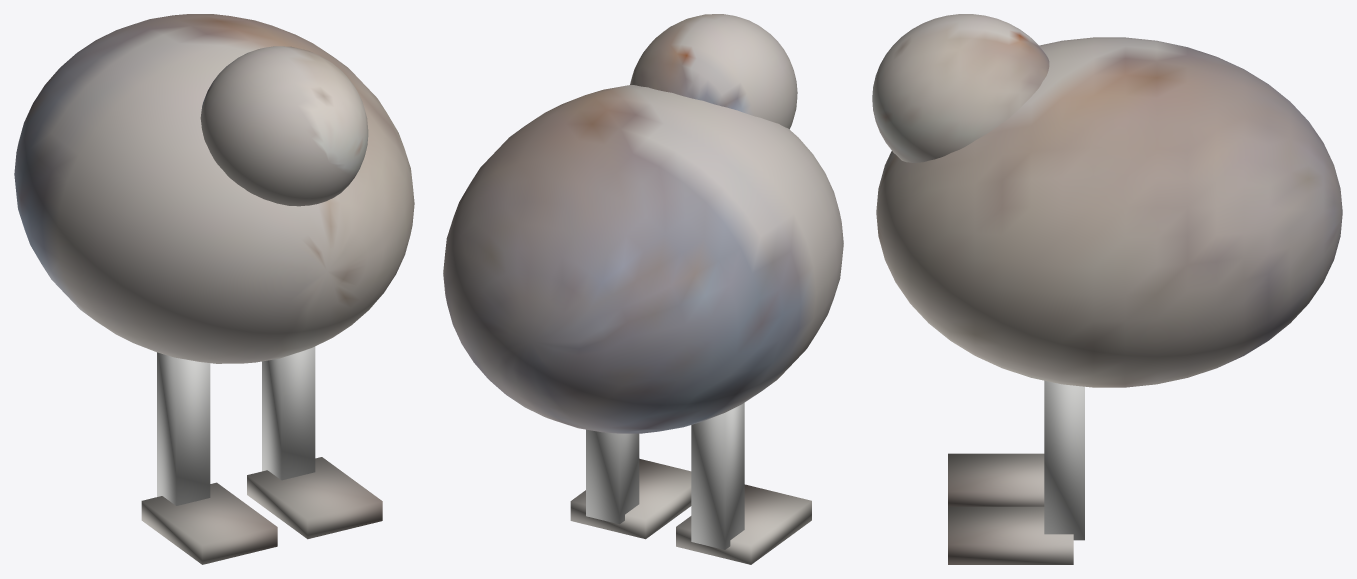
Rendered from animal_duck_white.glb.
The picture shows the model from 3 angles, left to right: view 1: azimuth 30°, elevation 25°; view 2: azimuth 150°, elevation 25°; view 3: azimuth 270°, elevation 25°; orthographic projection. The views are drawn at different scales.
Visible parts, largest first — view 1: body, neck_group, foot_l, foot_r; view 2: body, neck_group, foot_l, foot_r; view 3: body, neck_group, foot_r, foot_l.
Boxes of the visible parts, x1,y1,x2,y2 form: body: [14, 14, 414, 363]; neck_group: [200, 46, 368, 206]; foot_l: [141, 352, 277, 564]; foot_r: [247, 346, 382, 539]; body: [443, 85, 843, 433]; neck_group: [630, 14, 797, 129]; foot_l: [676, 403, 811, 564]; foot_r: [570, 429, 691, 539]; body: [876, 37, 1342, 387]; neck_group: [872, 14, 1049, 162]; foot_r: [948, 380, 1084, 564]; foot_l: [948, 453, 1044, 506].
Size of the model in its own units: 0.439 by 0.6123 by 0.5245.
